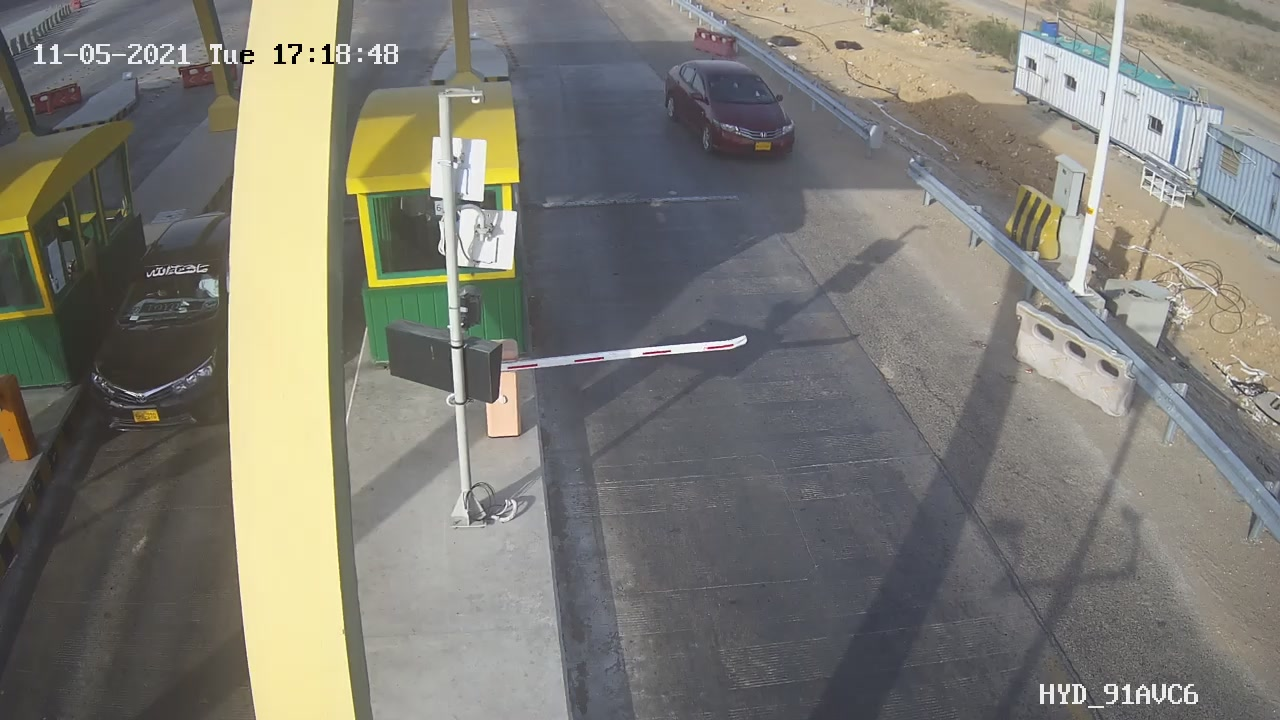F1: (648, 40, 809, 190)
